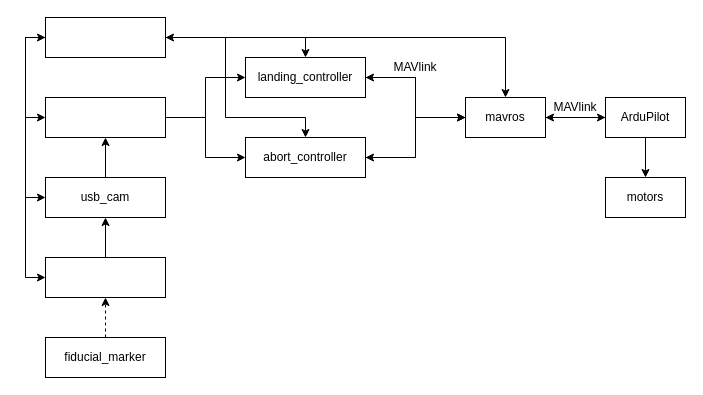
Image size: 703x395. Some labels were removed from this diagram. Each missing label, with the centre of its shape:
"camera" belongs at pixel 105 277.
"roscore" belongs at pixel 105 37.
"whycon_ros" belongs at pixel 105 117.
